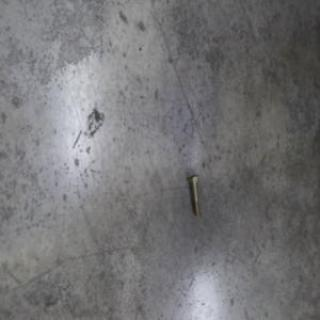Bolttrack_idkeyframe: (189, 171, 203, 215)
